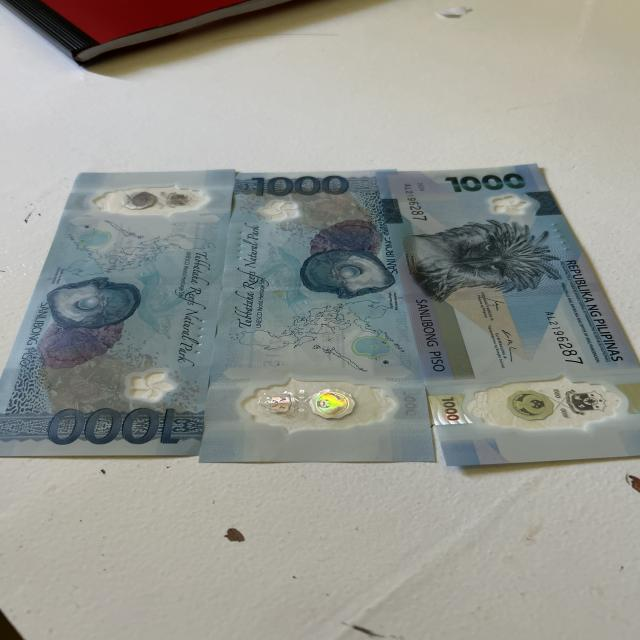clear_window: (237, 377, 401, 432), (468, 380, 635, 430), (88, 180, 226, 217)
eagle: (402, 215, 561, 295)
sampaguita: (108, 368, 180, 404), (252, 199, 308, 227), (491, 190, 533, 225)
serial_number: (542, 304, 586, 369), (400, 177, 430, 224)
value: (34, 408, 188, 443)
